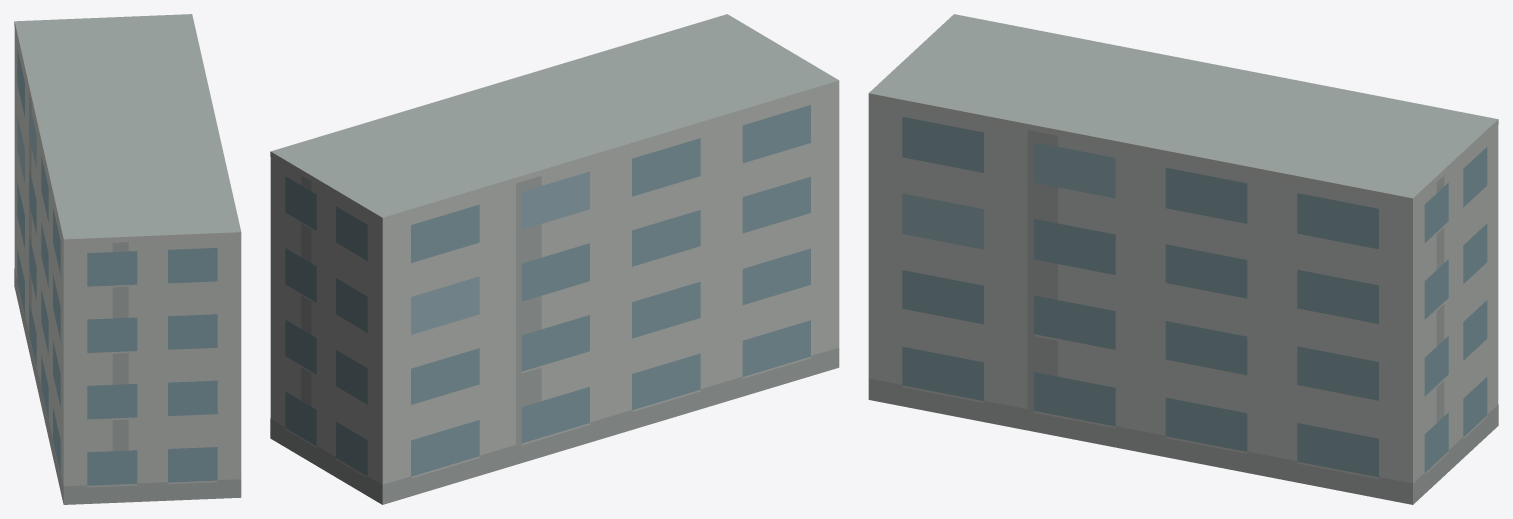
File: residential-0d333851-a694-492f-ab35-283c8333bbbd.glb
3 views of the same model, side by side, from view 1: azimuth 30°, elevation 25°; view 2: azimuth 150°, elevation 25°; view 3: azimuth 270°, elevation 25° (orthographic). The views are drawn at different scales.
Visible parts, largest first — view 1: residential-0d333851-a694-492f-ab35-283c8333bbbd.tmp; view 2: residential-0d333851-a694-492f-ab35-283c8333bbbd.tmp; view 3: residential-0d333851-a694-492f-ab35-283c8333bbbd.tmp.
Part boxes in pixels (left/top/right/bottom): residential-0d333851-a694-492f-ab35-283c8333bbbd.tmp: left=14, top=14, right=241, bottom=504; residential-0d333851-a694-492f-ab35-283c8333bbbd.tmp: left=270, top=14, right=839, bottom=504; residential-0d333851-a694-492f-ab35-283c8333bbbd.tmp: left=868, top=14, right=1498, bottom=504.
Size of the model in its own units: 15.75 by 12.2 by 22.73.
